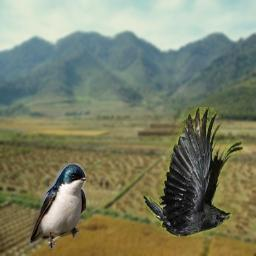Crow: (143, 107, 243, 237)
Swallow: (29, 163, 86, 249)
